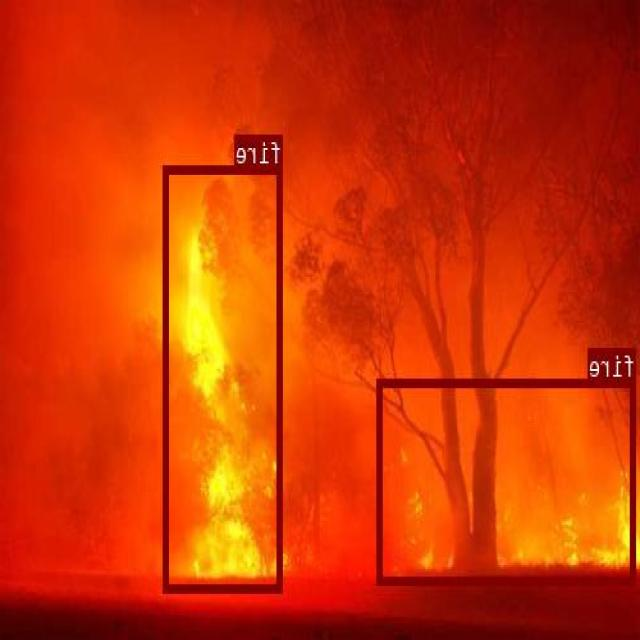fire: (379, 378, 636, 584), (164, 164, 283, 590)
